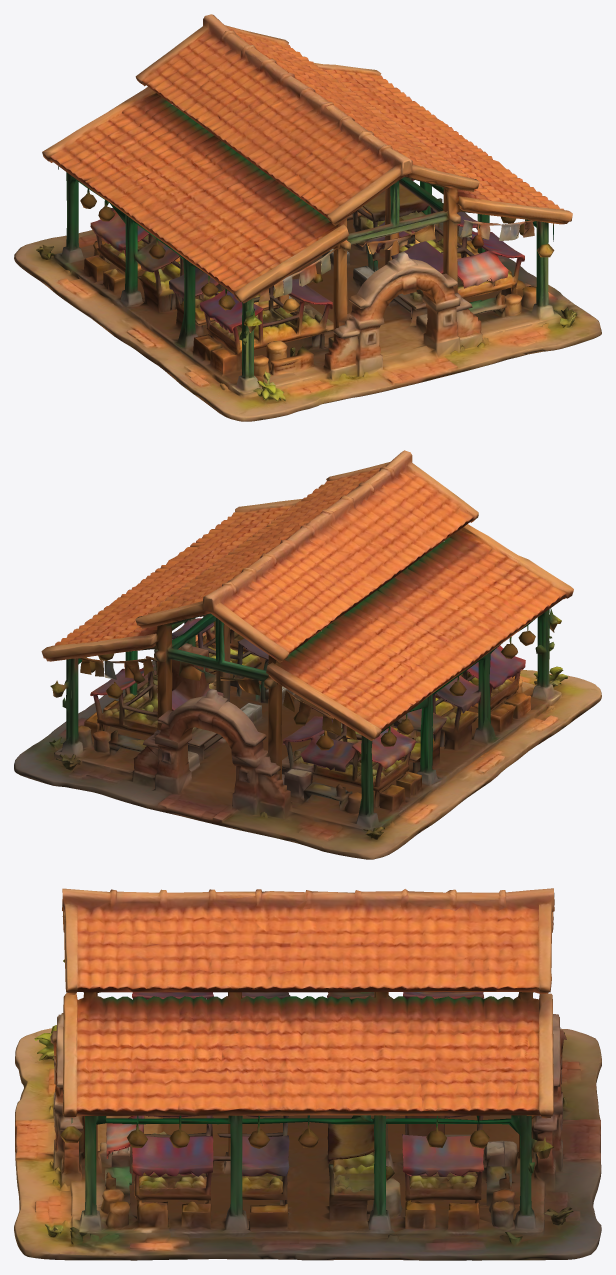
The model's file is pasar.glb.
3 renders of one model, top to bottom at view 1: azimuth 30°, elevation 25°; view 2: azimuth 150°, elevation 25°; view 3: azimuth 270°, elevation 25°, orthographic. The views are drawn at different scales.
Parts seen in each view (by area): view 1: tripo_node_dcbb7944-8ff4-4b81-8f23-5e97f213261f; view 2: tripo_node_dcbb7944-8ff4-4b81-8f23-5e97f213261f; view 3: tripo_node_dcbb7944-8ff4-4b81-8f23-5e97f213261f.
Boxes of the visible parts, <box> form: tripo_node_dcbb7944-8ff4-4b81-8f23-5e97f213261f: <box>14,14,601,421</box>; tripo_node_dcbb7944-8ff4-4b81-8f23-5e97f213261f: <box>14,450,601,859</box>; tripo_node_dcbb7944-8ff4-4b81-8f23-5e97f213261f: <box>14,888,601,1260</box>.
Bounding box in the file's own units: 0.916 × 0.4869 × 1.
1 material, 1 textured.
